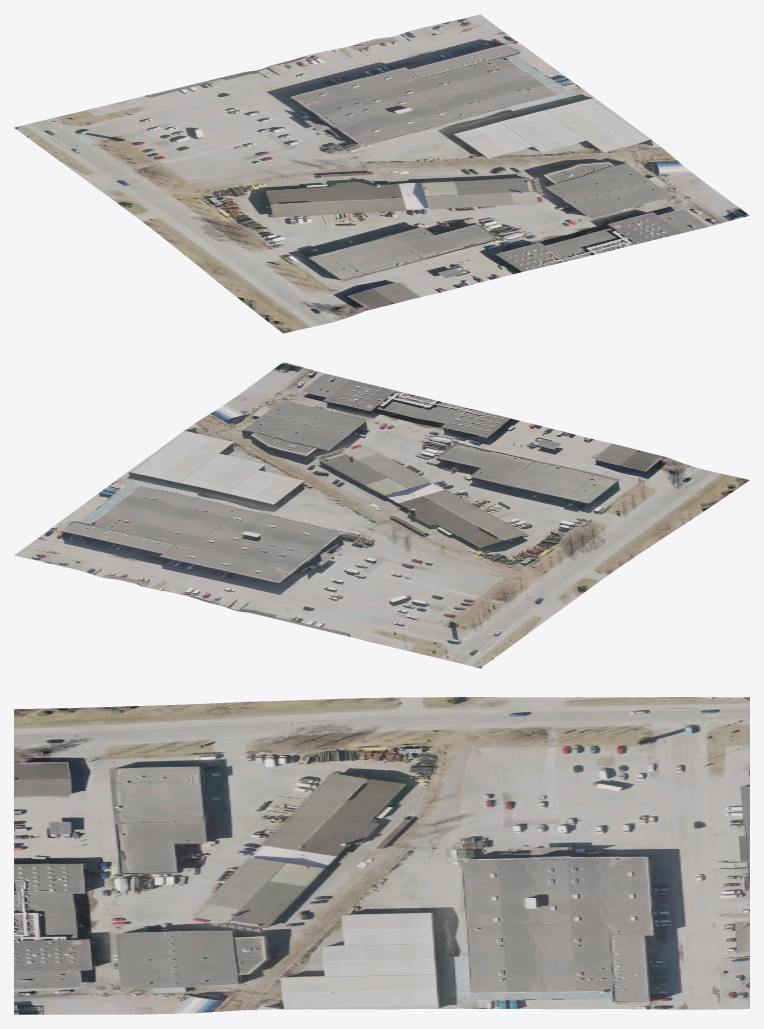
The model's file is CM_Terrain_24488410_6818770.fbx.
3 renders of one model, top to bottom at view 1: azimuth 30°, elevation 25°; view 2: azimuth 150°, elevation 25°; view 3: azimuth 270°, elevation 25°, orthographic. The views are drawn at different scales.
Visible parts, largest first — view 1: CM_Terrain_24488410_6818770_LOD0; view 2: CM_Terrain_24488410_6818770_LOD0; view 3: CM_Terrain_24488410_6818770_LOD0.
Part boxes in pixels (x1,y1,x2,y2): CM_Terrain_24488410_6818770_LOD0: (14, 14, 749, 333); CM_Terrain_24488410_6818770_LOD0: (14, 362, 749, 668); CM_Terrain_24488410_6818770_LOD0: (14, 697, 749, 1014).
Size of what is drawn, in the model's own units: 205 by 5.09 by 205.
